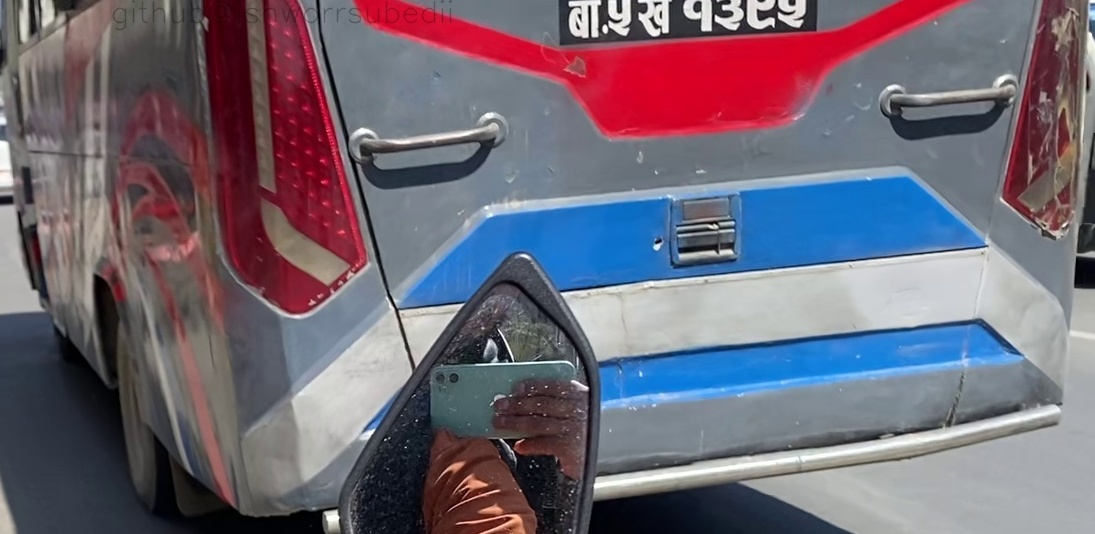license_plate: (553, 0, 821, 48)
